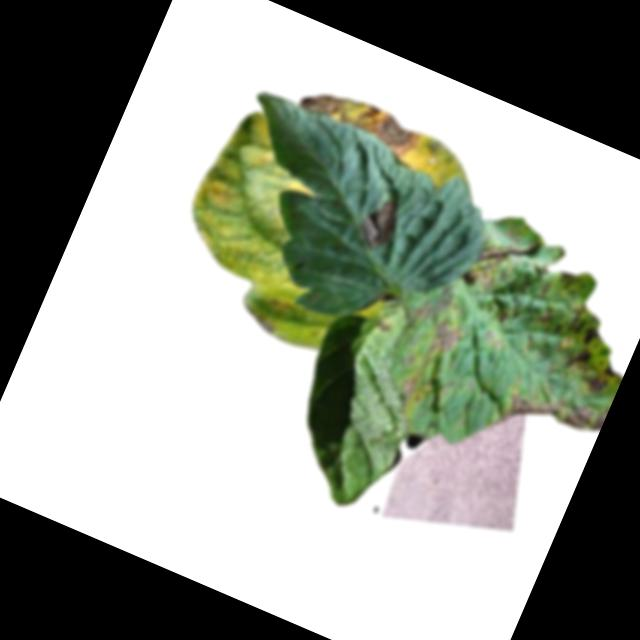Early_blight: (295, 75, 426, 161), (499, 370, 608, 459), (465, 221, 544, 304), (350, 189, 409, 256), (578, 354, 625, 404), (565, 319, 605, 376), (551, 294, 592, 345), (424, 315, 464, 361), (393, 366, 431, 412), (534, 299, 557, 327), (557, 266, 580, 288), (496, 307, 514, 326), (378, 316, 395, 332)
